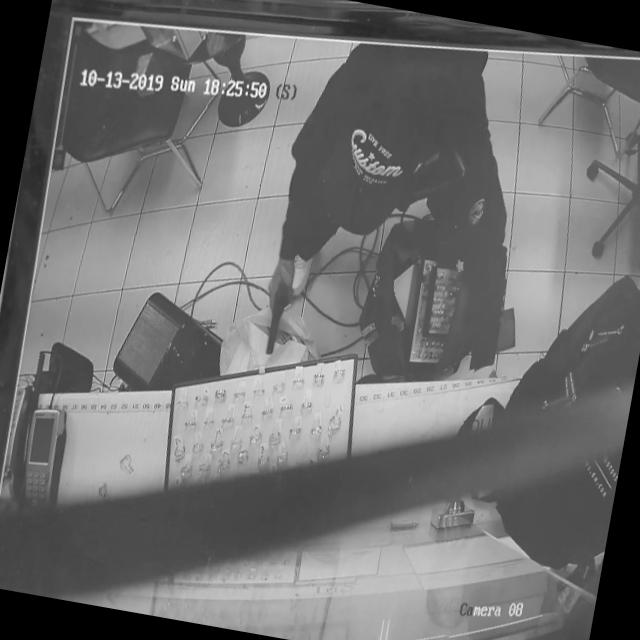gun: (256, 264, 296, 358)
person with a gun: (255, 62, 542, 396)
